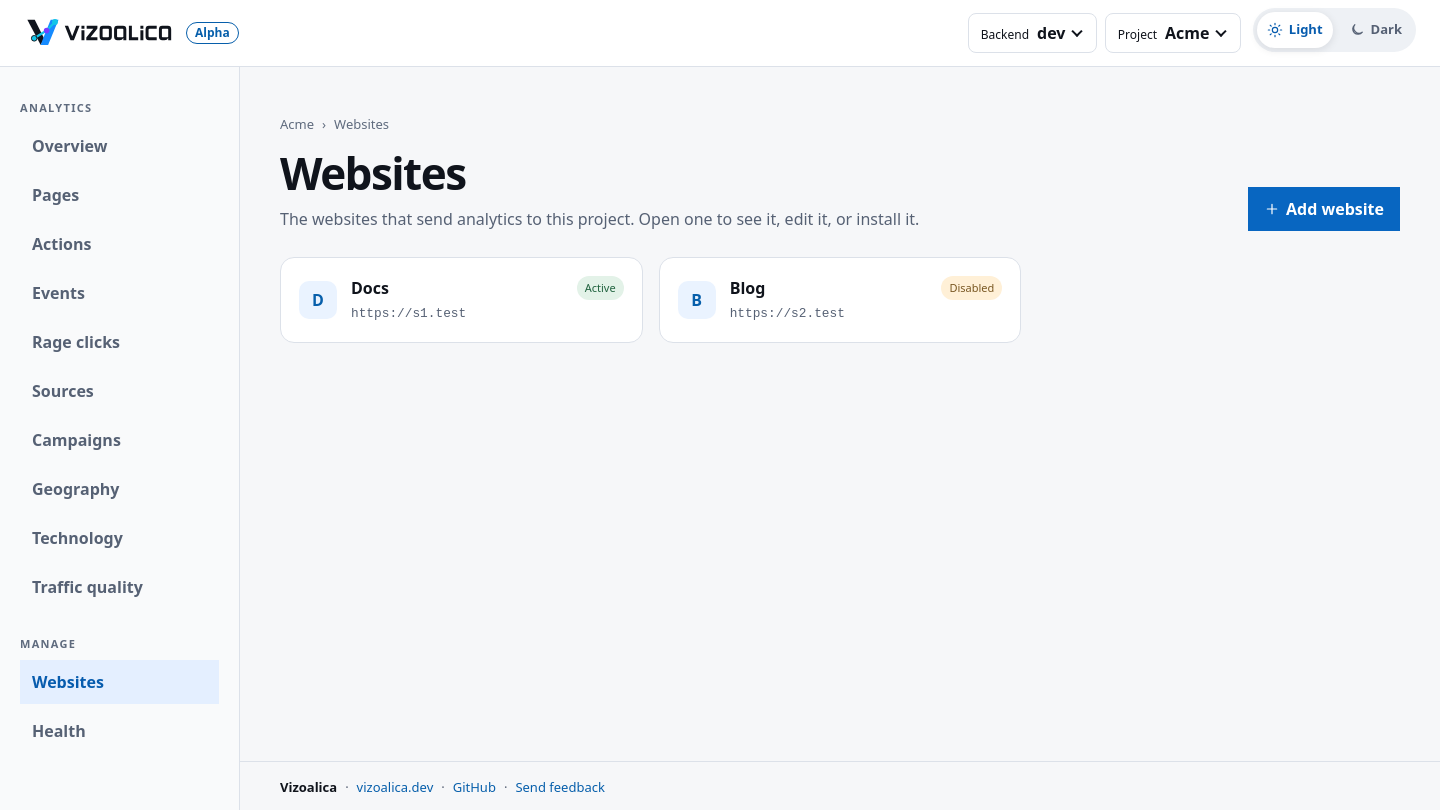
Test: websites list › follows the project chosen in the shell
Expected: the text "Docs" is shown, [351,276,389,300]
Click the button "Project Acme": point(1173, 33) [1105,13,1241,53]
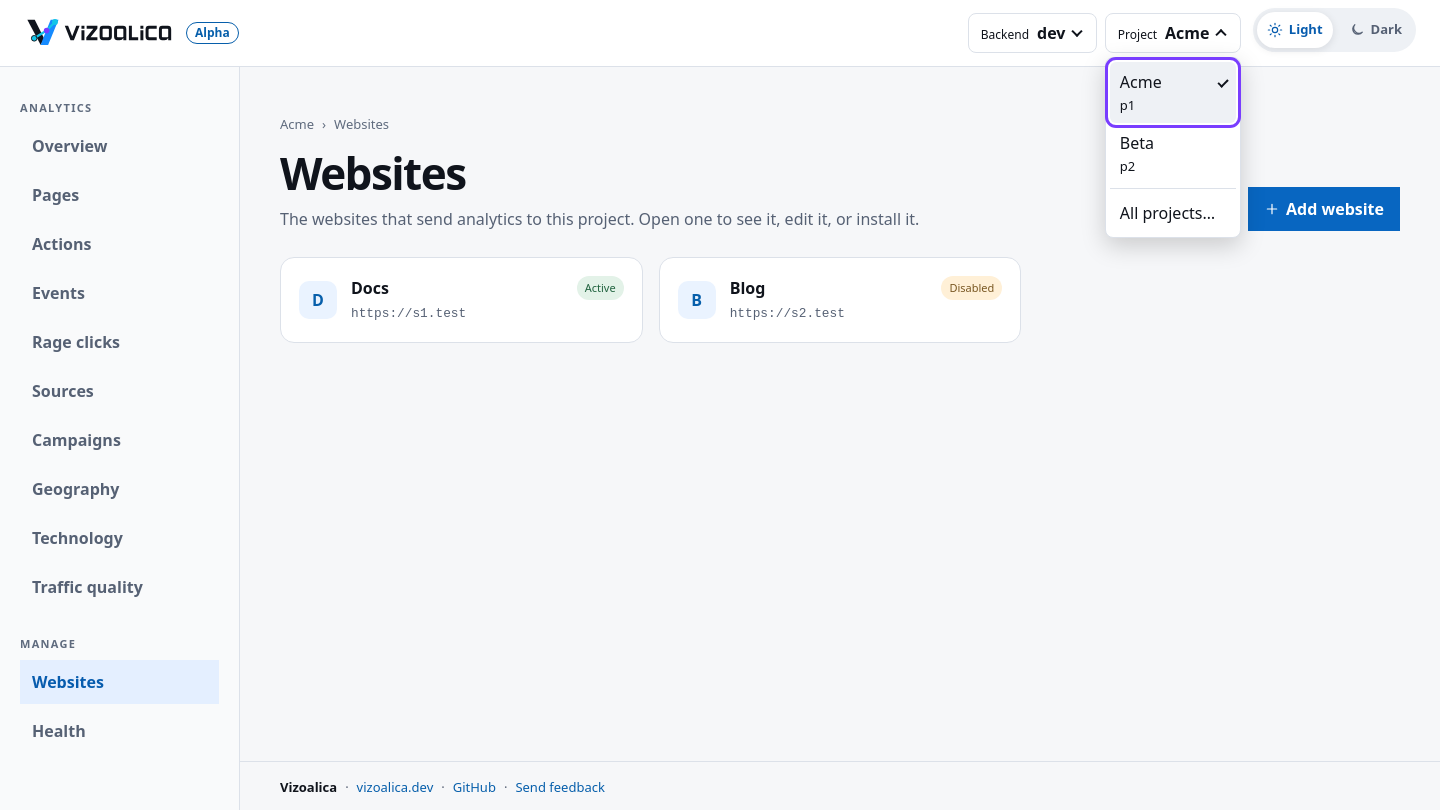
Click the menu item "Beta p2": point(1173, 154) [1110,123,1236,184]
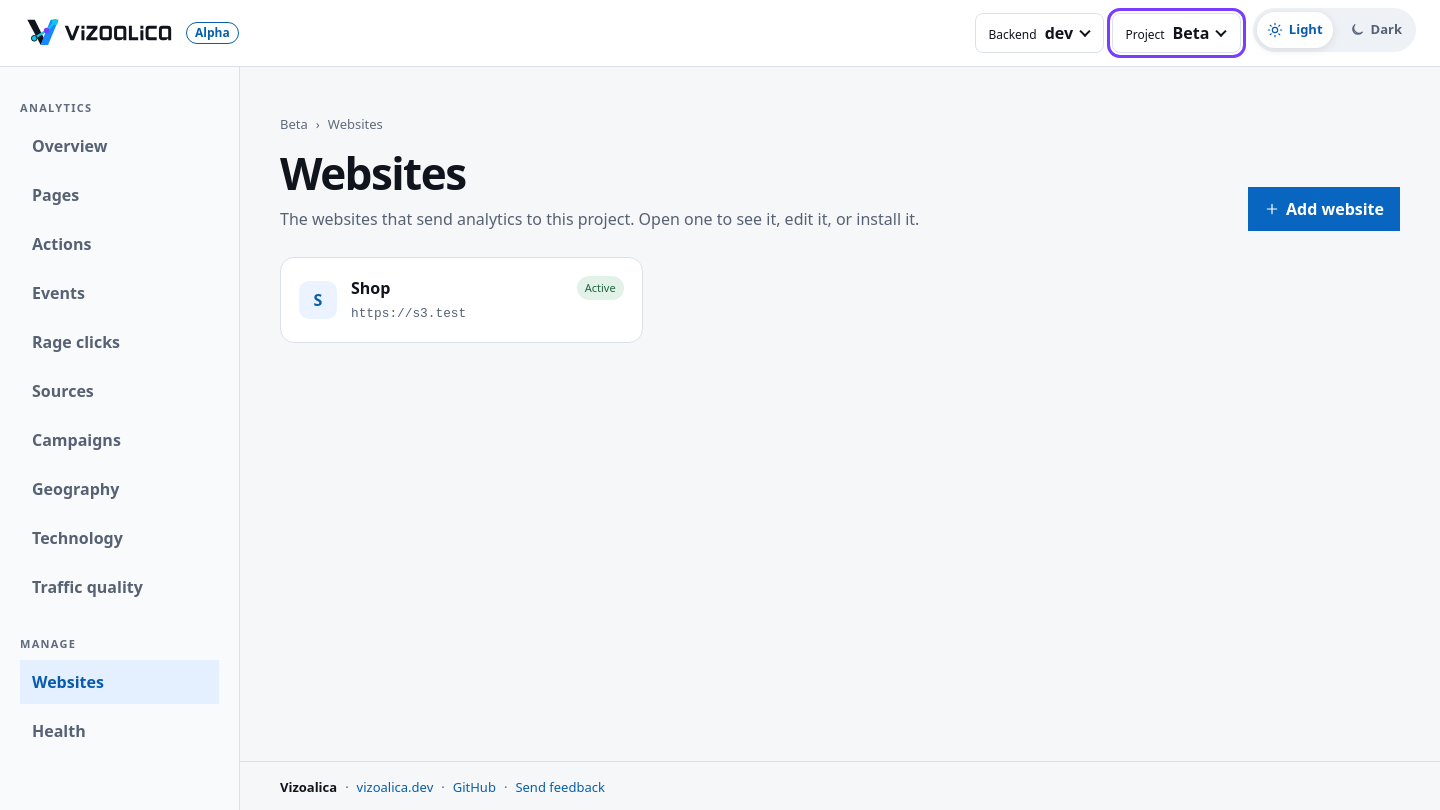
Expected: the text "Shop" is shown, [351,276,390,300]
Expected: the link "Docs" is gone
